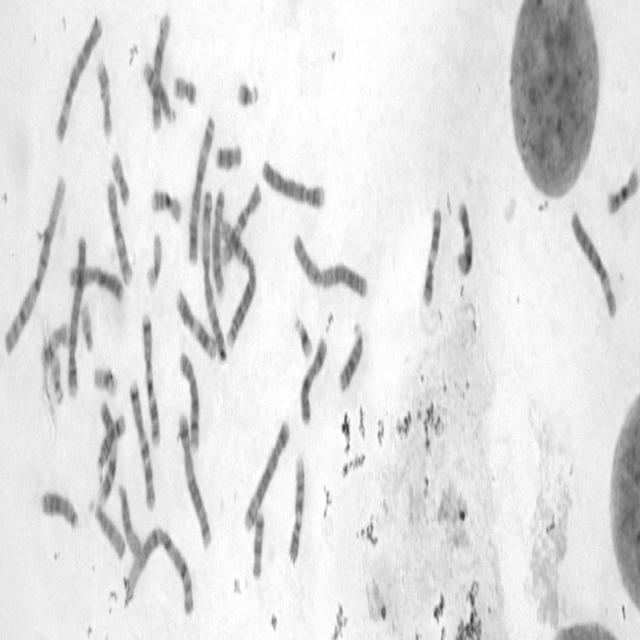A1: (2, 169, 68, 358), (121, 521, 196, 618)
A2: (290, 227, 369, 302), (218, 214, 258, 348)
A3: (199, 182, 227, 362), (186, 109, 216, 265)
B4: (260, 152, 326, 212), (65, 229, 87, 401)
B5: (242, 413, 290, 535), (176, 406, 213, 550)
C10: (218, 176, 262, 268), (105, 175, 134, 287)
C11: (174, 284, 217, 361), (420, 201, 442, 308)
C12: (148, 6, 172, 134), (454, 195, 474, 279)
C6: (53, 9, 103, 147), (568, 204, 618, 322)
C7: (127, 374, 156, 512), (140, 307, 162, 448)
C8: (177, 347, 201, 454), (210, 183, 226, 301)
C9: (95, 397, 116, 509), (286, 449, 306, 566)
D13: (336, 316, 364, 396), (38, 482, 79, 532)
D14: (140, 56, 176, 127), (95, 407, 126, 474)
D15: (88, 493, 126, 562), (116, 478, 142, 560)
E16: (604, 160, 640, 218), (148, 182, 182, 226)
E17: (38, 318, 70, 372), (95, 54, 113, 142)
E18: (250, 507, 266, 581), (213, 138, 243, 174)
F19: (144, 227, 163, 294), (91, 361, 119, 399)
F20: (110, 146, 130, 207), (171, 68, 198, 107)
G21: (293, 310, 313, 361), (235, 74, 259, 110)
G22: (49, 347, 64, 407), (79, 297, 94, 355)
X: (298, 333, 328, 427), (66, 258, 125, 304)
